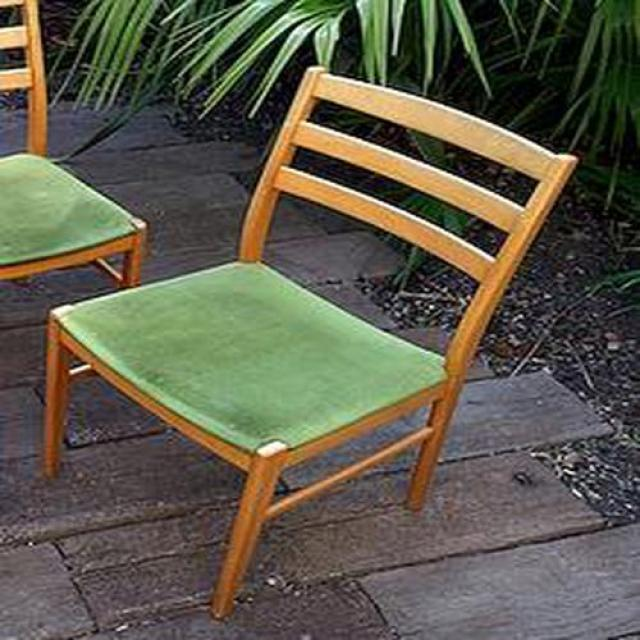chair: (44, 67, 580, 622)
